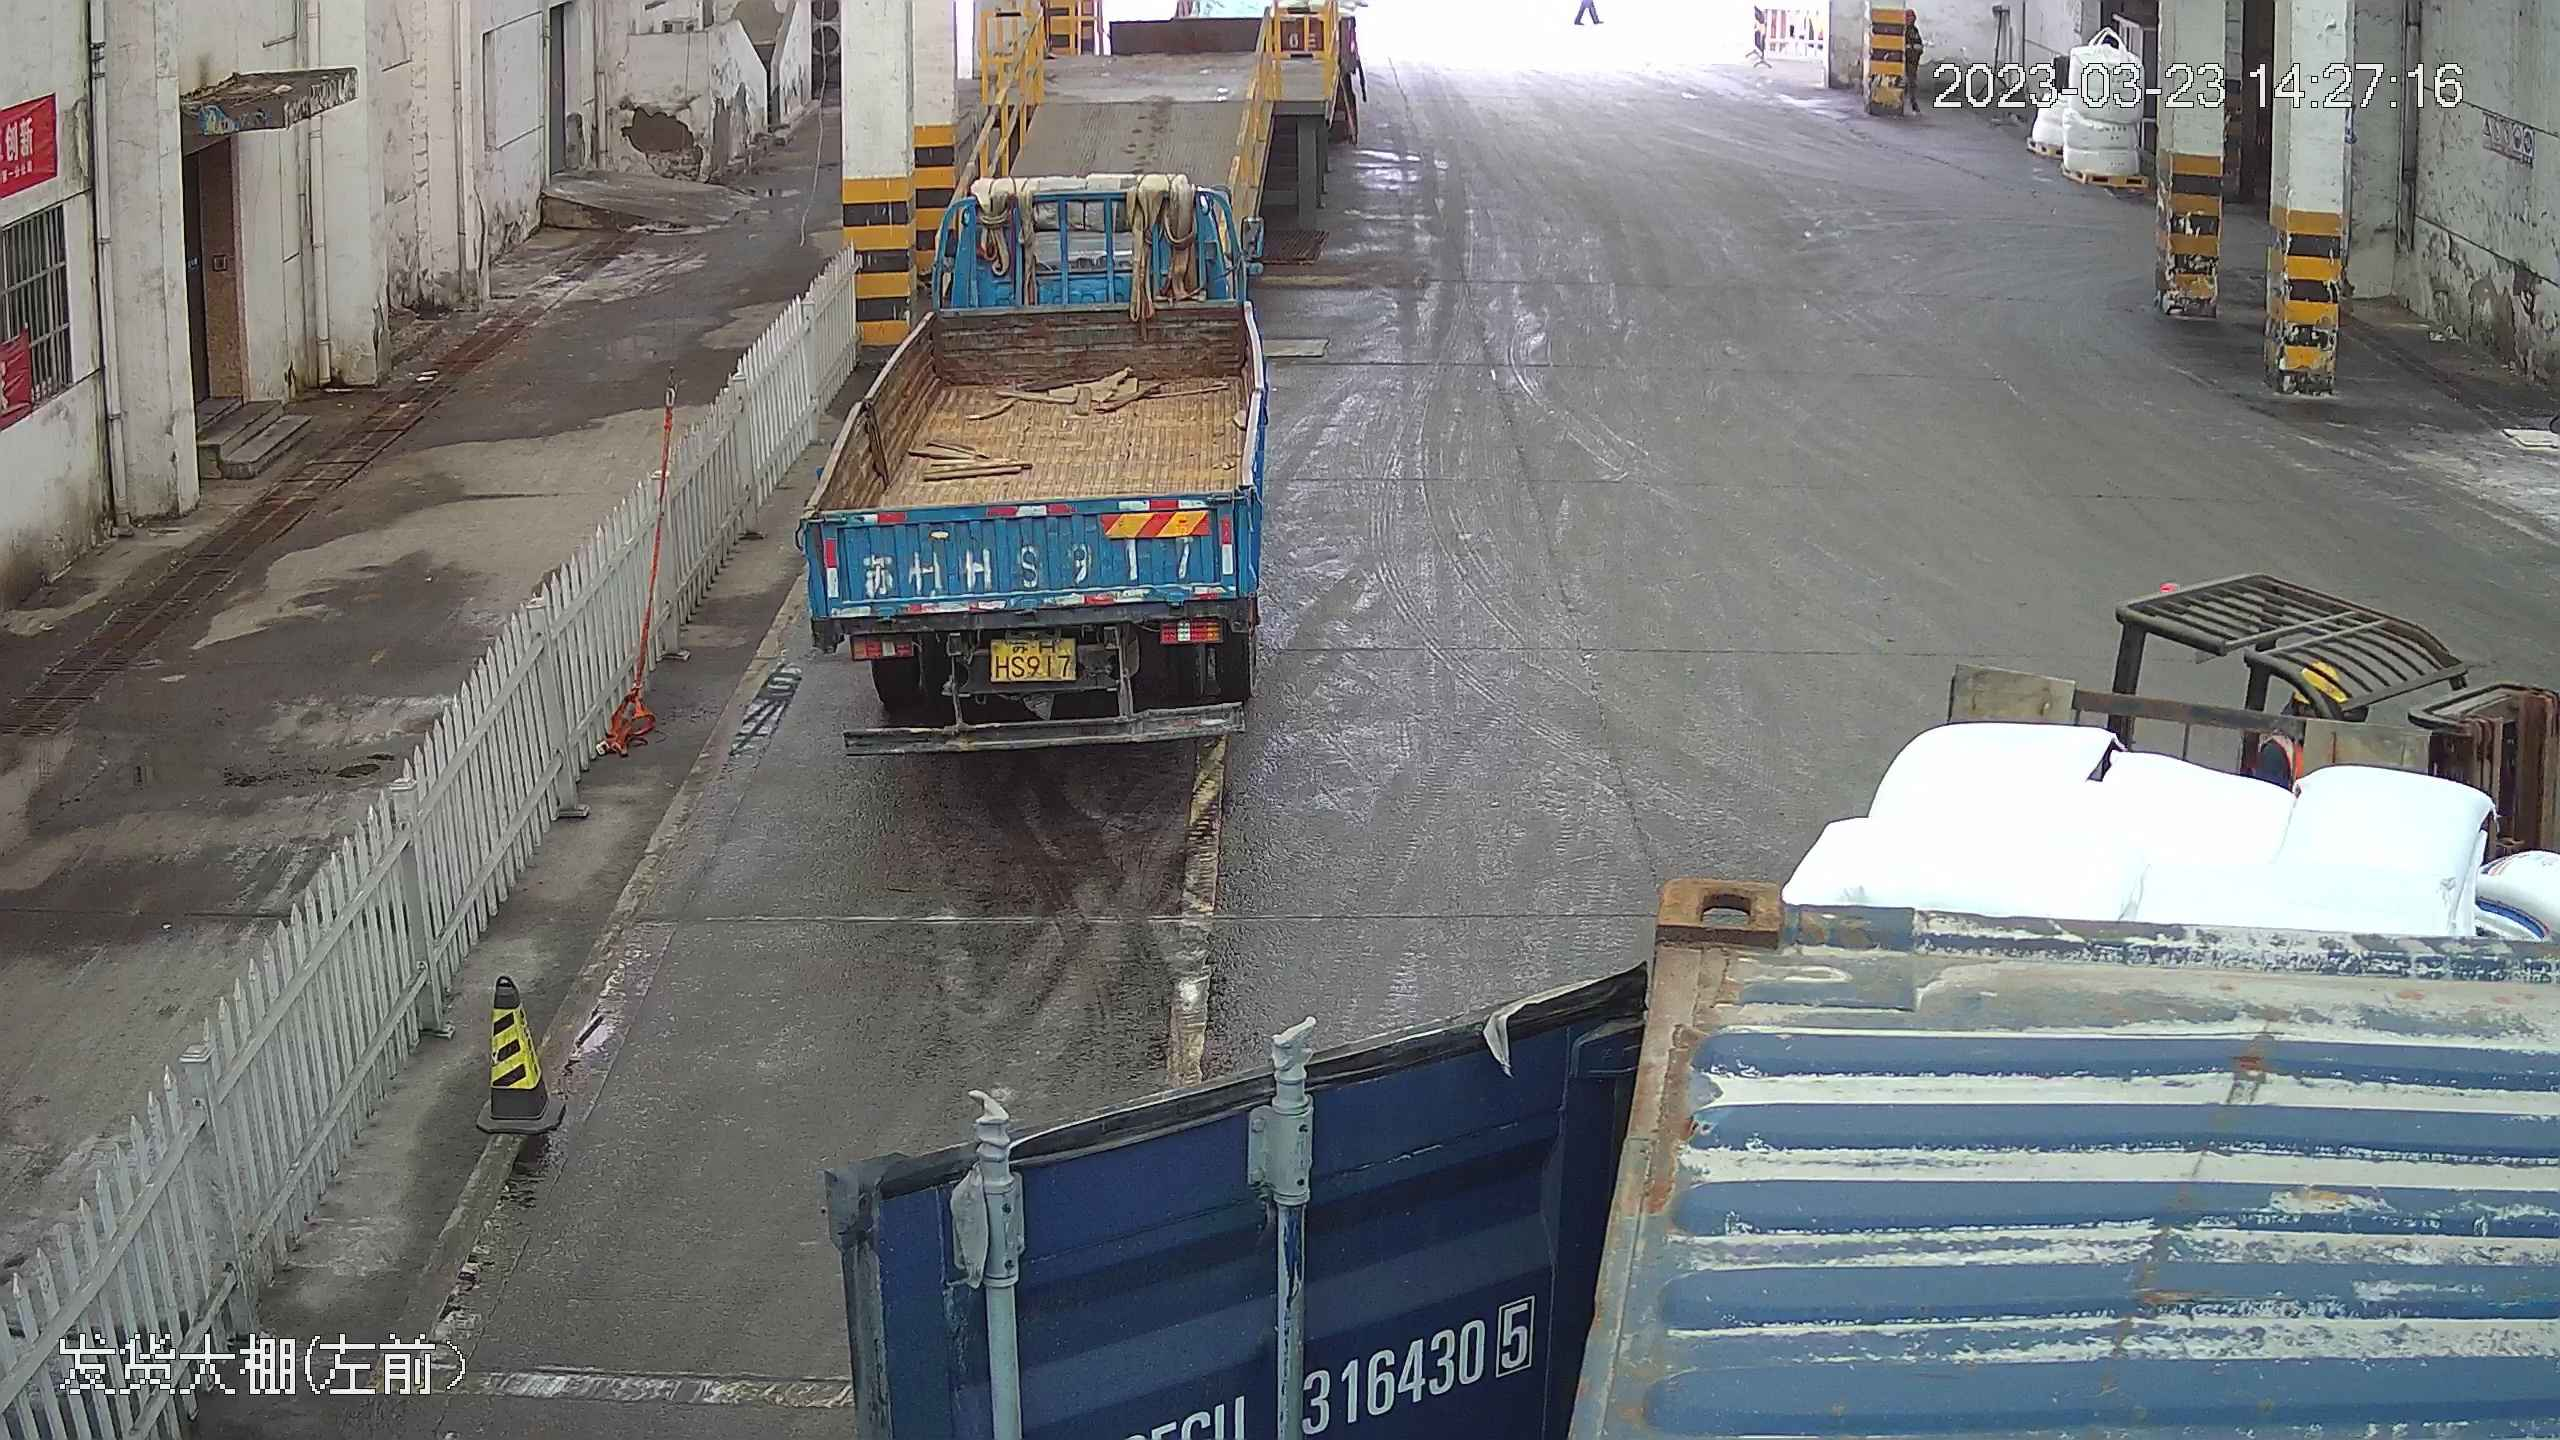helmet: (2287, 656, 2351, 707)
truck: (782, 155, 1276, 751)
